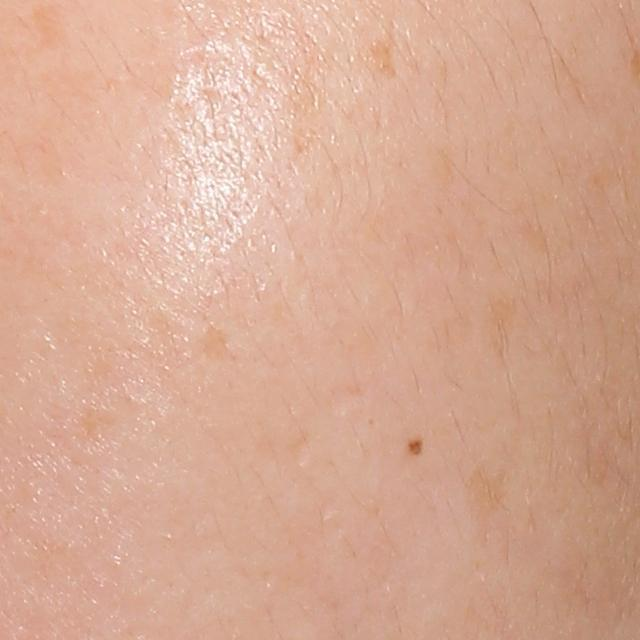nevus: (409, 438, 424, 457)
